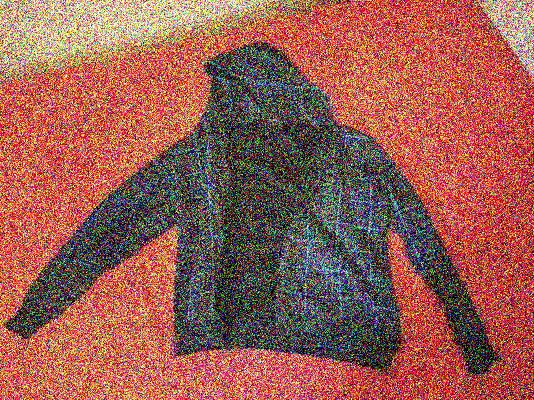Hoodie: (11, 43, 504, 392)
